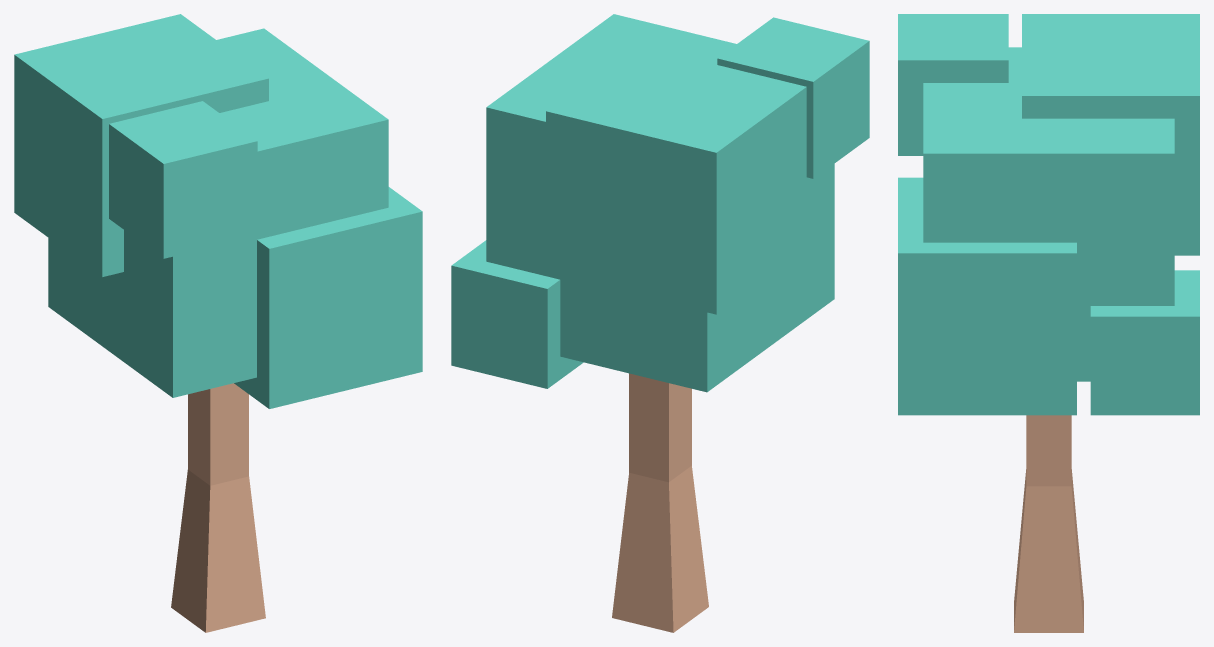
Rendered from tree_blocks.glb.
The picture shows the model from 3 angles, left to right: view 1: azimuth 30°, elevation 25°; view 2: azimuth 150°, elevation 25°; view 3: azimuth 270°, elevation 25°; orthographic projection. The views are drawn at different scales.
Visible parts, largest first — view 1: tree_blocks; view 2: tree_blocks; view 3: tree_blocks.
Boxes of the visible parts, box(x1,y1,x2,y2) form: tree_blocks: box(14, 14, 422, 632); tree_blocks: box(451, 14, 869, 632); tree_blocks: box(898, 14, 1199, 632).
Size of the model in its own units: 0.6 by 1.19 by 0.6.
